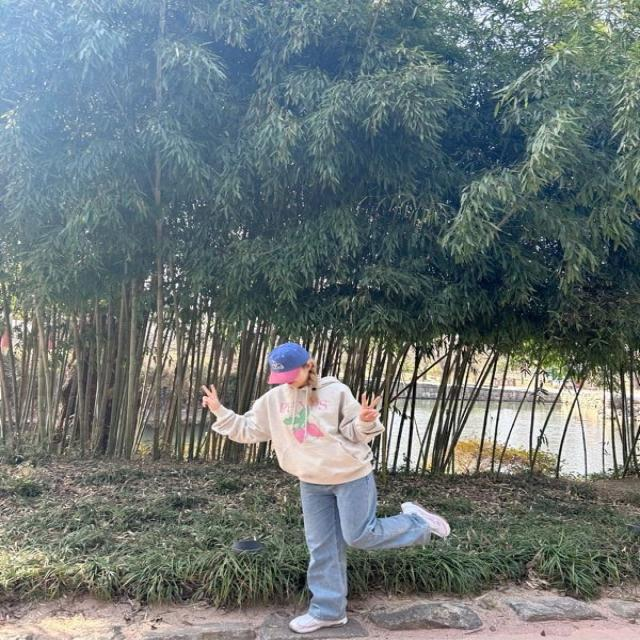denimpants: (306, 476, 436, 622)
hoodies: (208, 373, 381, 482)
